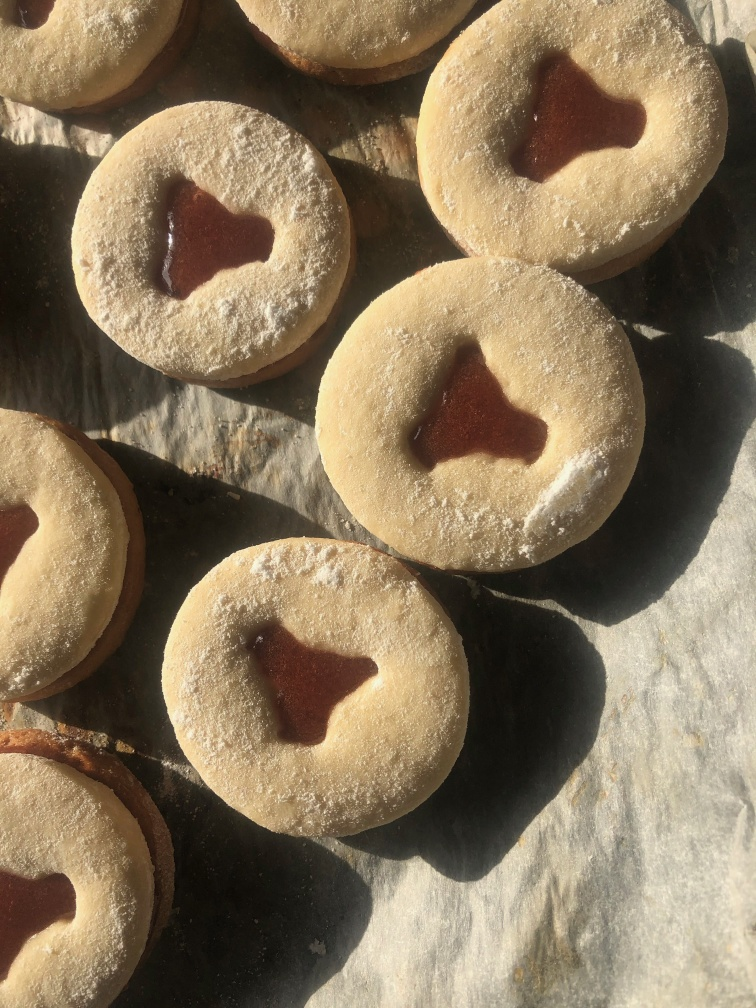christmas shortbread with jam: (318, 255, 647, 567), (165, 540, 465, 841), (416, 1, 733, 273), (68, 100, 352, 384)
